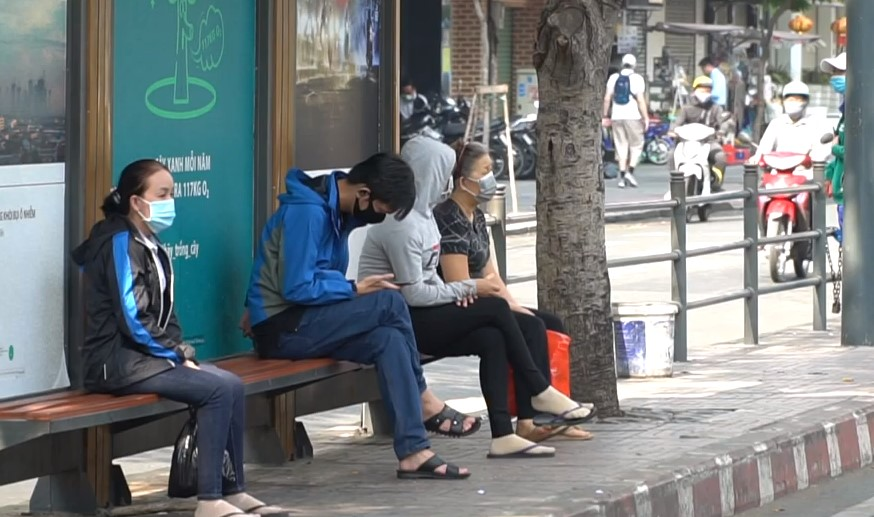face_with_mask: (349, 154, 411, 229), (122, 157, 177, 237), (452, 139, 499, 206), (772, 74, 812, 124), (817, 46, 846, 93)
